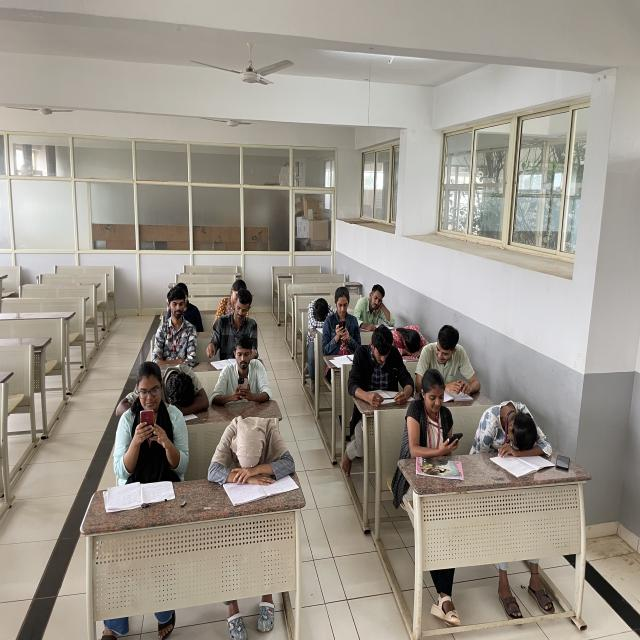Reading: (349, 322, 418, 412), (415, 323, 480, 398)
Sleeping: (205, 412, 298, 494), (113, 358, 220, 417), (468, 396, 558, 466), (384, 322, 435, 362), (304, 293, 339, 337)
Using Phone: (108, 357, 196, 486), (404, 370, 464, 458), (208, 332, 278, 407), (322, 284, 363, 356)
Writing: (208, 291, 263, 364), (352, 282, 398, 336)
